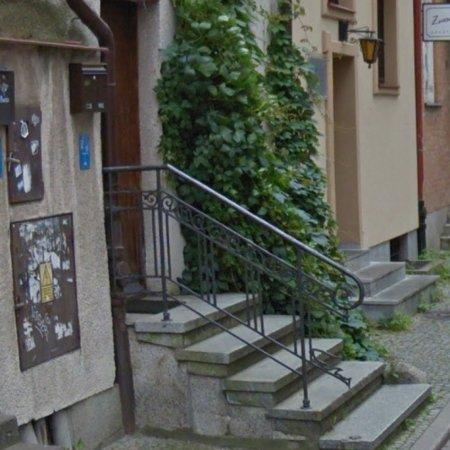stairs: (128, 294, 428, 450)
